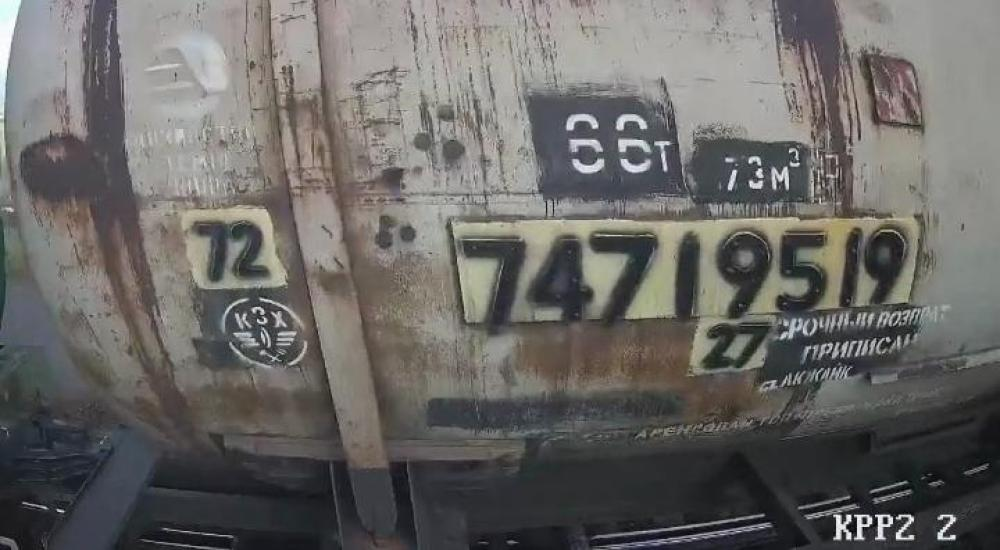Wagon-number: (458, 223, 912, 320)
